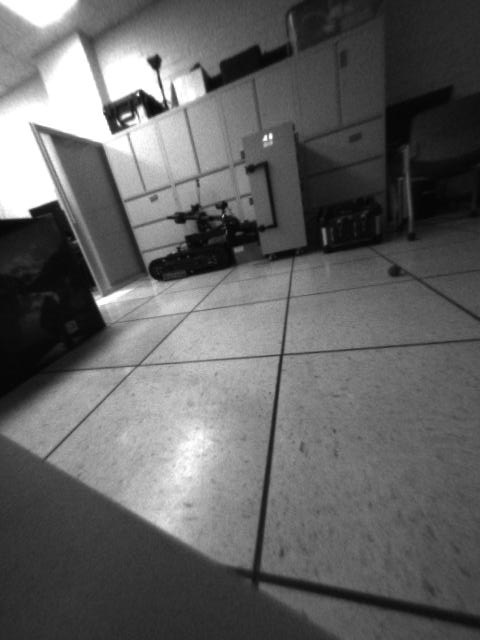dogtoy: (379, 258, 411, 285)
